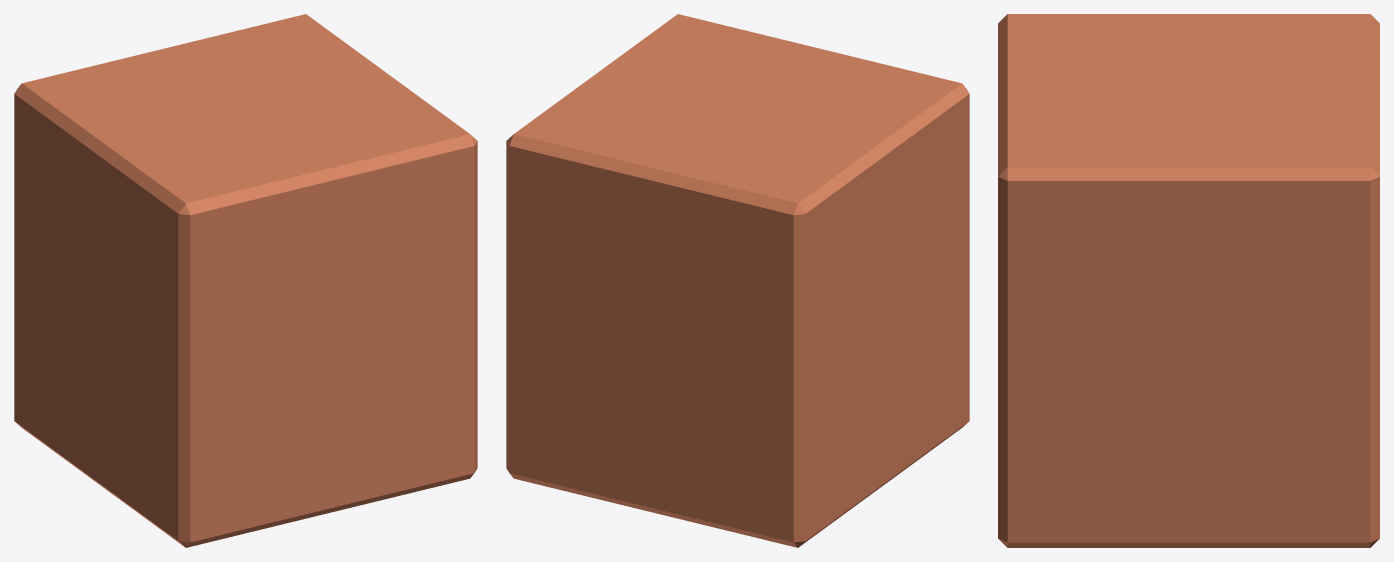
The model's file is wall_terracotta_1m.glb.
The picture shows the model from 3 angles, left to right: view 1: azimuth 30°, elevation 25°; view 2: azimuth 150°, elevation 25°; view 3: azimuth 270°, elevation 25°; orthographic projection. The views are drawn at different scales.
Parts seen in each view (by area): view 1: Block.006; view 2: Block.006; view 3: Block.006.
Boxes of the visible parts, bbox=[...] form: Block.006: bbox=[14, 14, 477, 547]; Block.006: bbox=[506, 14, 969, 547]; Block.006: bbox=[998, 14, 1379, 547].
Bounding box in the file's own units: 1 × 1.1 × 1.
